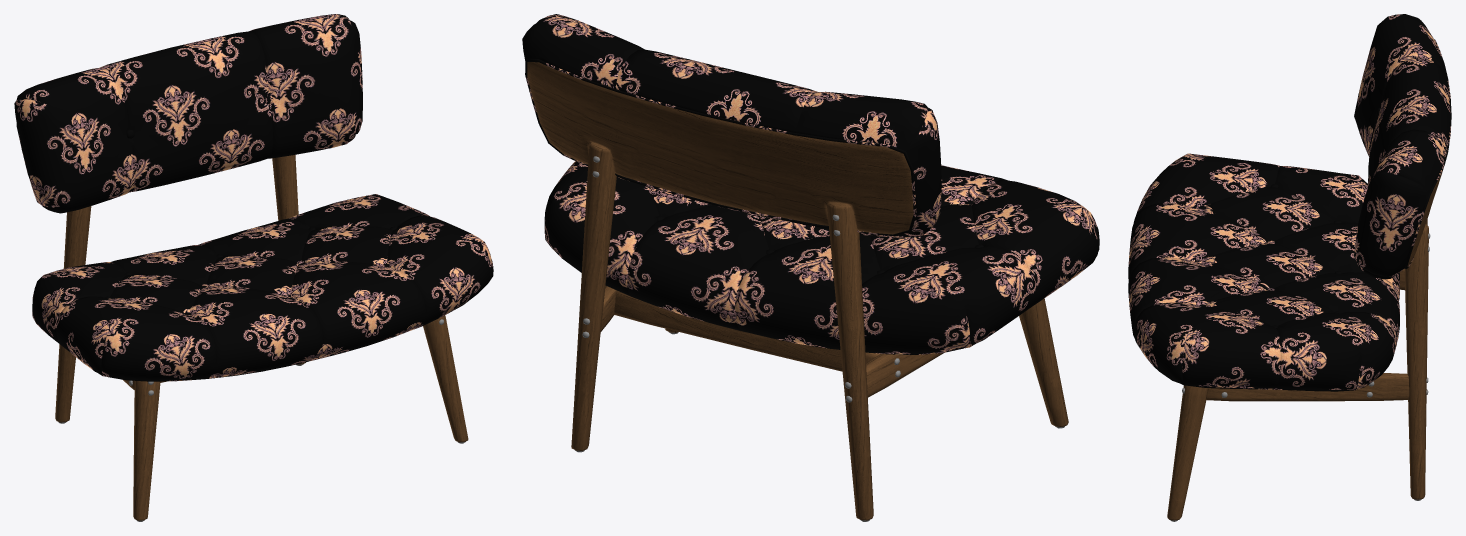
Rendered from ChairDamaskPurplegold.glb.
3 renders of one model, left to right at view 1: azimuth 30°, elevation 25°; view 2: azimuth 150°, elevation 25°; view 3: azimuth 270°, elevation 25°, orthographic. The views are drawn at different scales.
Visible parts, largest first — view 1: oval-tufted-chair_back-fabric, oval-tufted-chair_legs-frame; view 2: oval-tufted-chair_back-fabric, oval-tufted-chair_legs-frame; view 3: oval-tufted-chair_back-fabric, oval-tufted-chair_legs-frame.
Part boxes in pixels (<box>): oval-tufted-chair_back-fabric: <box>14,14,493,381</box>; oval-tufted-chair_legs-frame: <box>55,154,468,520</box>; oval-tufted-chair_back-fabric: <box>522,14,1099,354</box>; oval-tufted-chair_legs-frame: <box>527,62,1068,520</box>; oval-tufted-chair_back-fabric: <box>1128,14,1451,391</box>; oval-tufted-chair_legs-frame: <box>1167,169,1443,520</box>.
Bounding box in the file's own units: 0.8286 × 0.6874 × 0.5718.
Materials: 4 (3 with a texture image).
